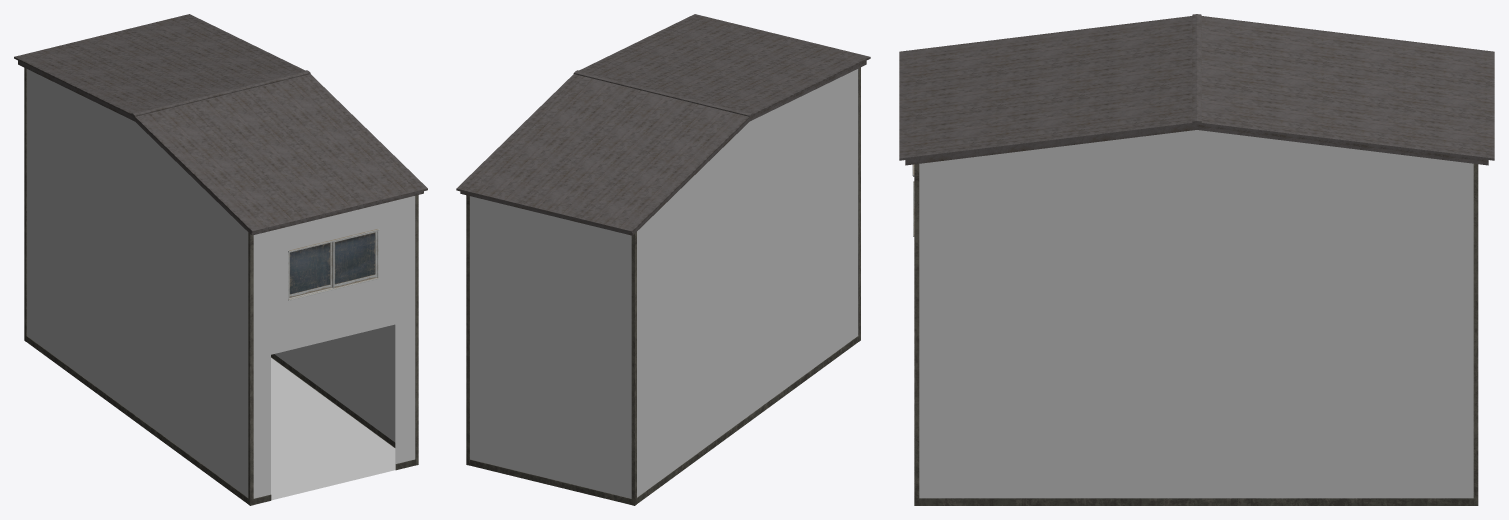
Rendered from House_A.fbx.
3 renders of one model, left to right at view 1: azimuth 30°, elevation 25°; view 2: azimuth 150°, elevation 25°; view 3: azimuth 270°, elevation 25°, orthographic. The views are drawn at different scales.
Visible parts, largest first — view 1: House_A; view 2: House_A; view 3: House_A.
Part boxes in pixels (x1,y1,x2,y2): House_A: (14,14,427,505); House_A: (456,14,870,505); House_A: (899,14,1494,505).
Bounding box in the file's own units: 315 × 532 × 741.
